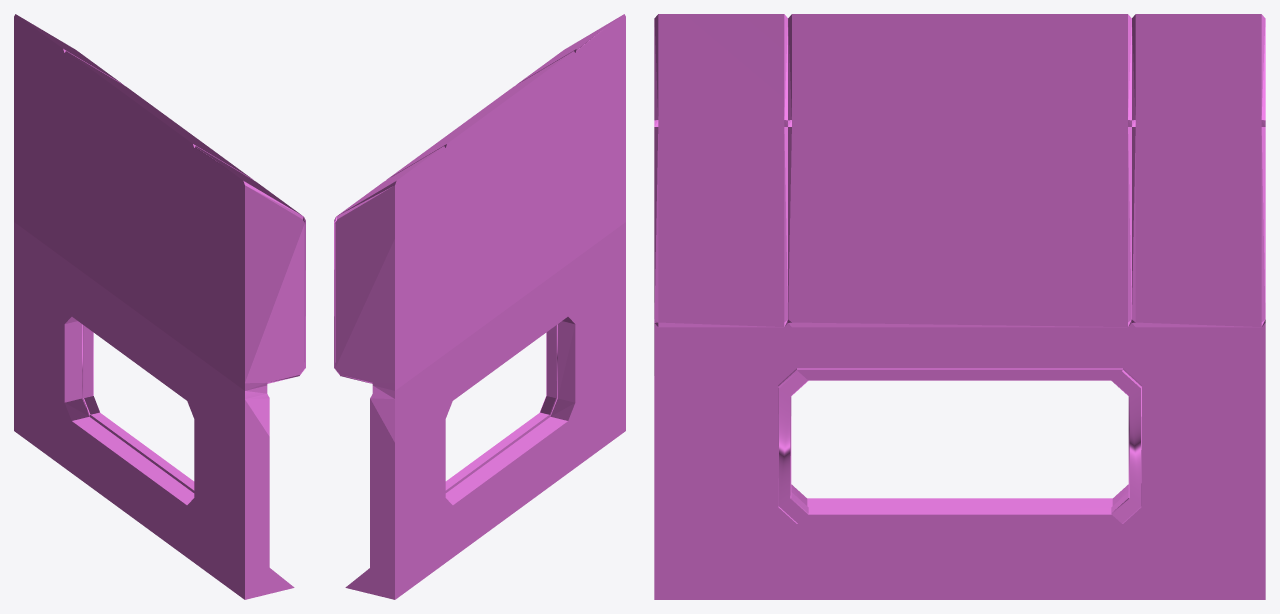
Rendered from uee_stanton_kit_ext_window_0x8x8_01_reg.glb.
The picture shows the model from 3 angles, left to right: view 1: azimuth 30°, elevation 25°; view 2: azimuth 150°, elevation 25°; view 3: azimuth 270°, elevation 25°; orthographic projection. The views are drawn at different scales.
Size of the model in its own units: 1.25 by 8 by 8.
